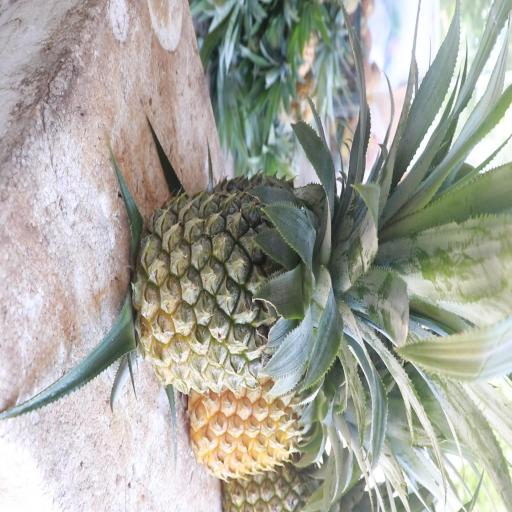------------------------------: (138, 177, 337, 391)
Pineapple - v8 v1: (190, 372, 317, 472)
